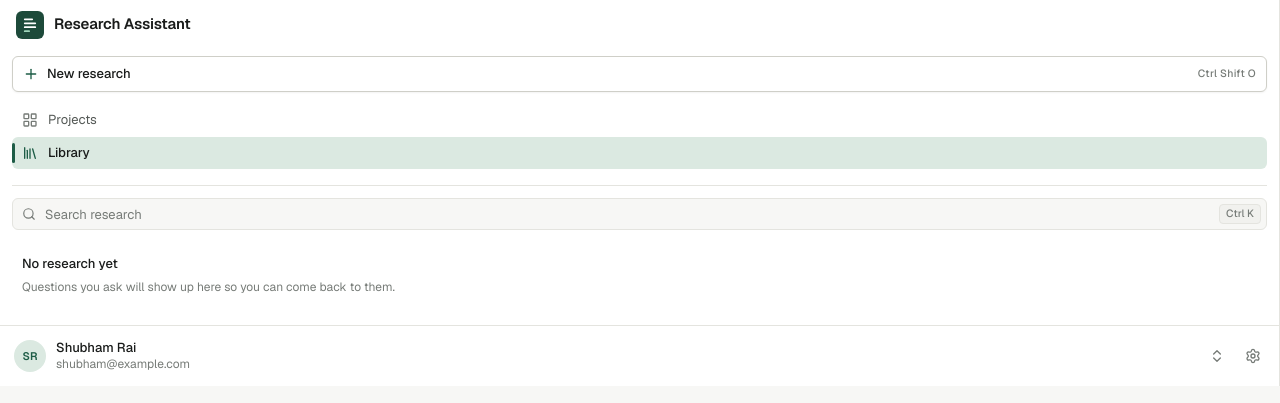
Scenario: AppSidebar navigation › has no theme switch in the profile menu
Click the button "SR Shubham Rai shubham@example.com": (30, 356) [8,334,1231,378]
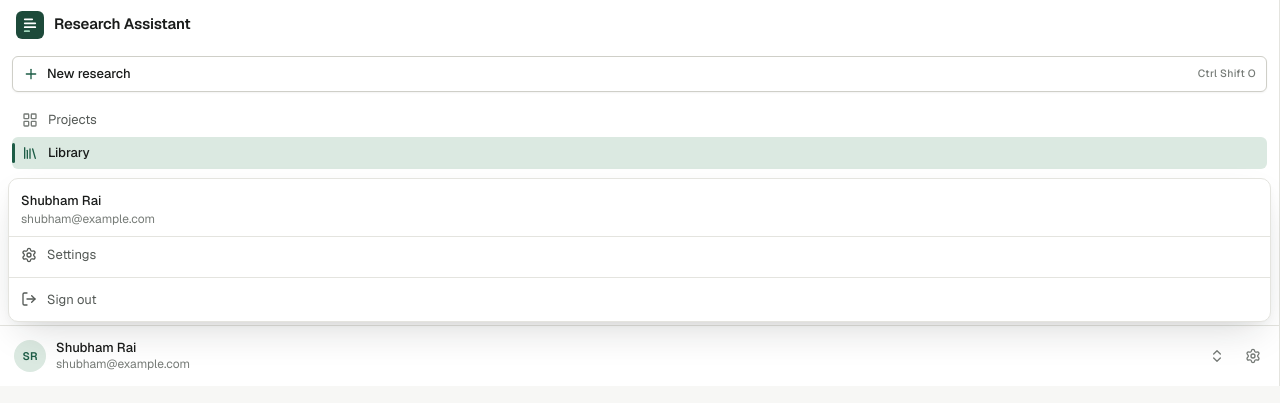
expect the menu is shown: met, box [8,178,1271,322]
expect the menu item "Settings" is shown: met, box [21,246,96,263]
